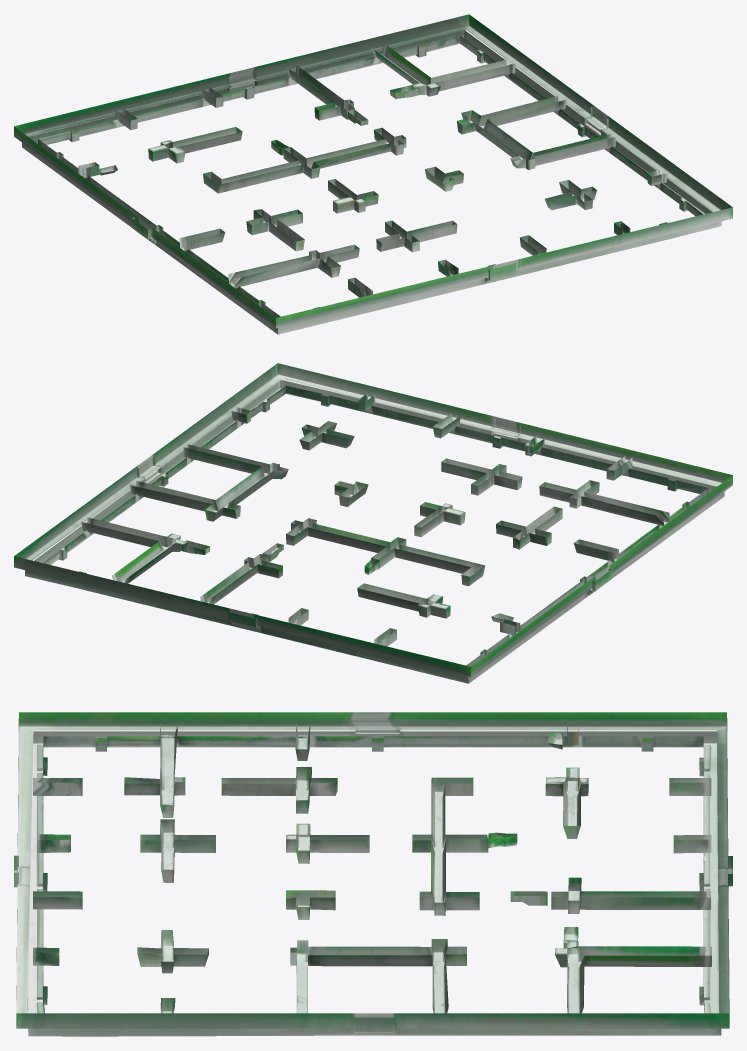
The model's file is mura.obj.
3 views of the same model, one above another, from view 1: azimuth 30°, elevation 25°; view 2: azimuth 150°, elevation 25°; view 3: azimuth 270°, elevation 25° (orthographic). The views are drawn at different scales.
Visible parts, largest first — view 1: InnerWalls_0.1; view 2: InnerWalls_0.1; view 3: InnerWalls_0.1.
Boxes of the visible parts, x1,y1,x2,y2 form: InnerWalls_0.1: (14, 14, 732, 334); InnerWalls_0.1: (14, 363, 732, 683); InnerWalls_0.1: (14, 712, 732, 1036).
Size of the model in its own units: 13.39 by 0.5628 by 13.38.
1 material, 1 textured.
